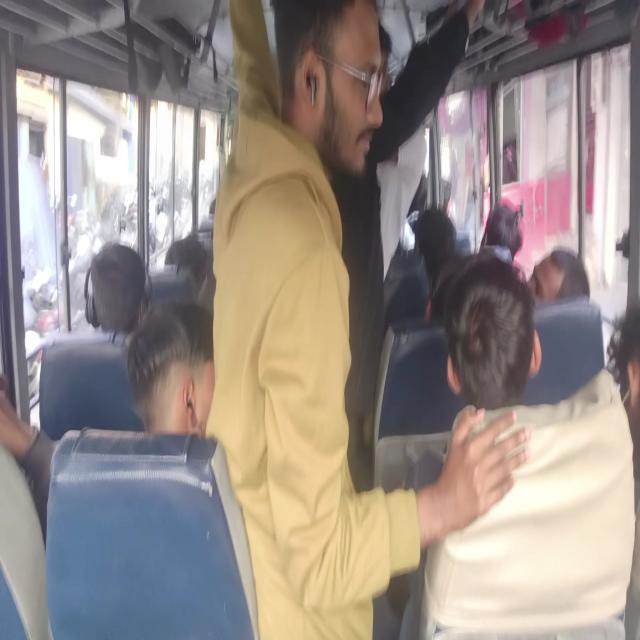person: (274, 16, 391, 167), (308, 0, 412, 152), (85, 250, 173, 348), (457, 267, 527, 366), (0, 354, 45, 481), (422, 199, 474, 284), (131, 348, 204, 408), (538, 256, 594, 333), (605, 333, 640, 428), (485, 194, 526, 256), (171, 234, 196, 282)
